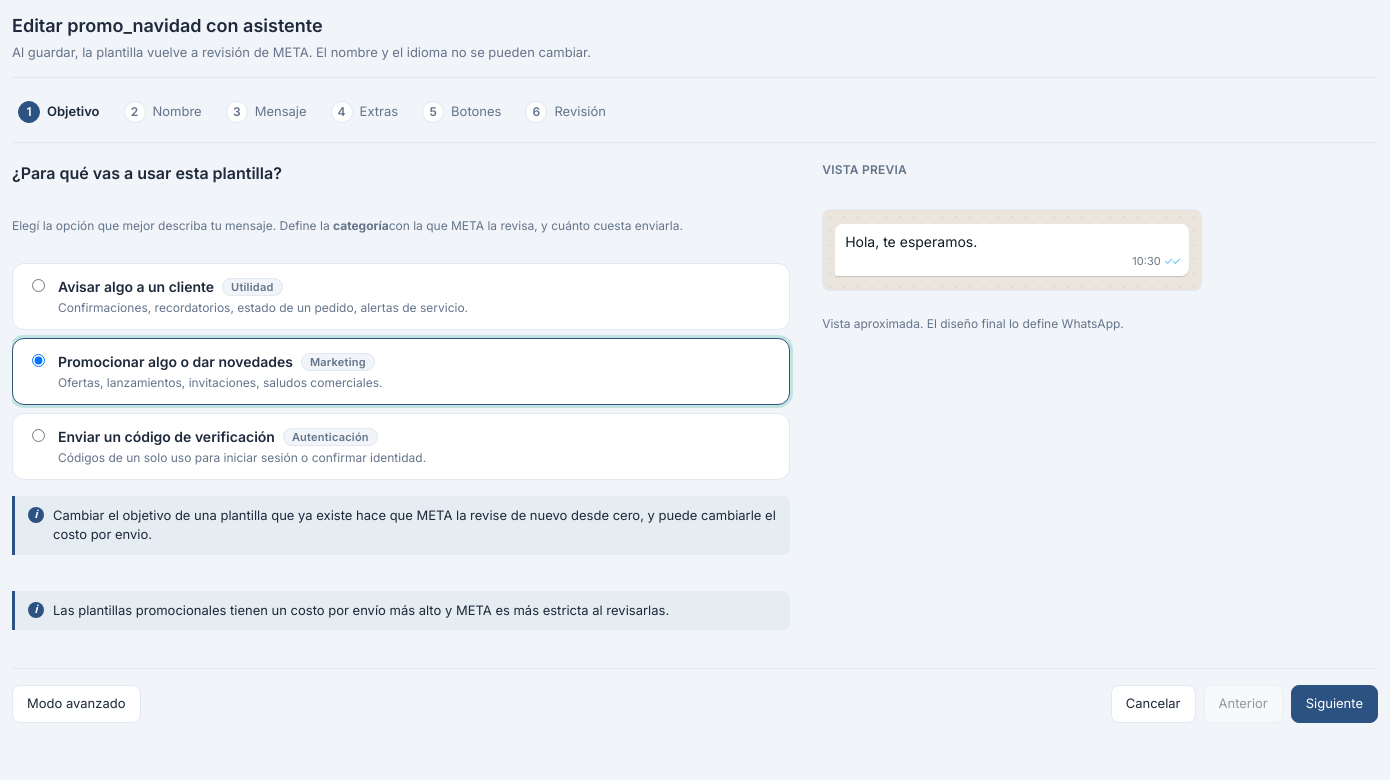
Scenario: TemplateEditor › el asistente parte del contenido que ya tiene la plantilla
This screenshot has width=1390, height=780.
Step 1. Click the button "Siguiente" → (1334, 704), box [1291, 685, 1378, 722]
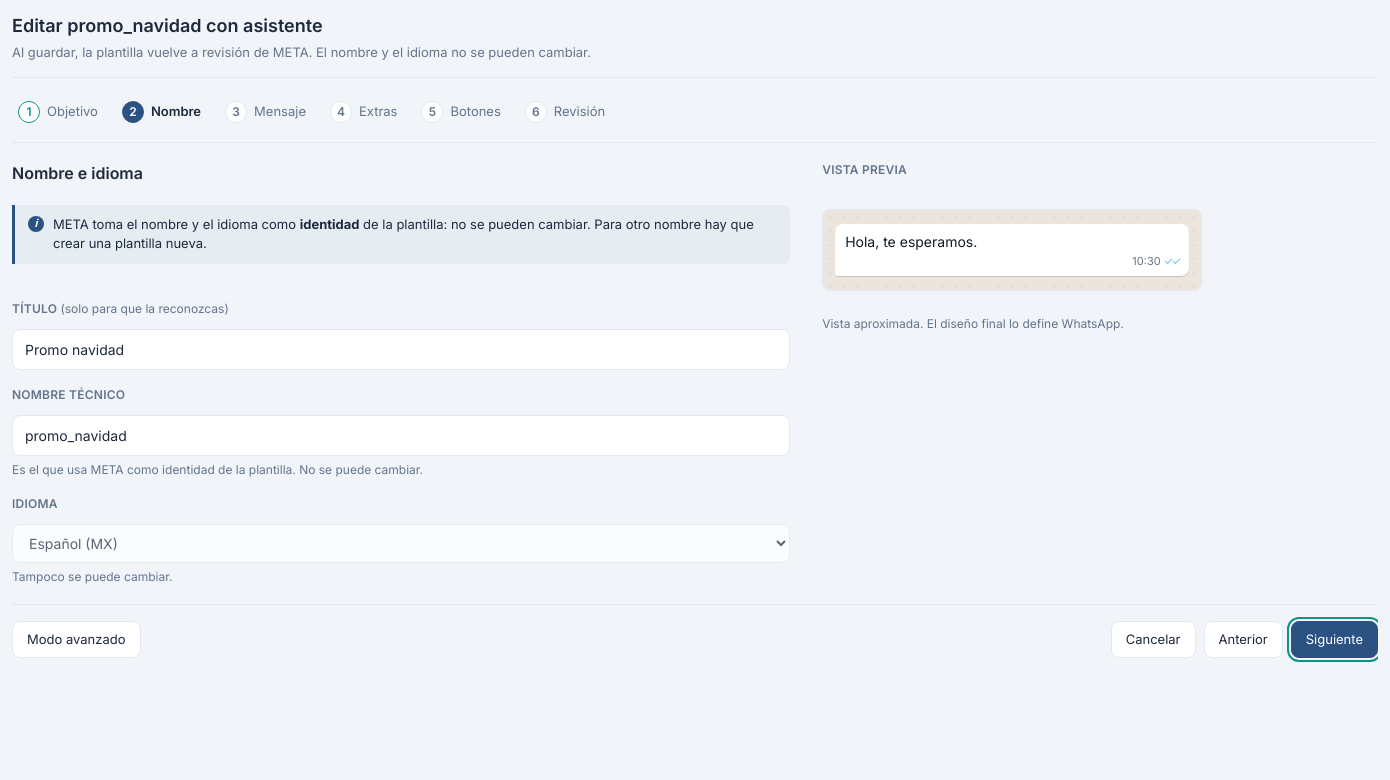
Step 2. Click the button "Siguiente" → (1334, 639), box [1291, 620, 1378, 658]
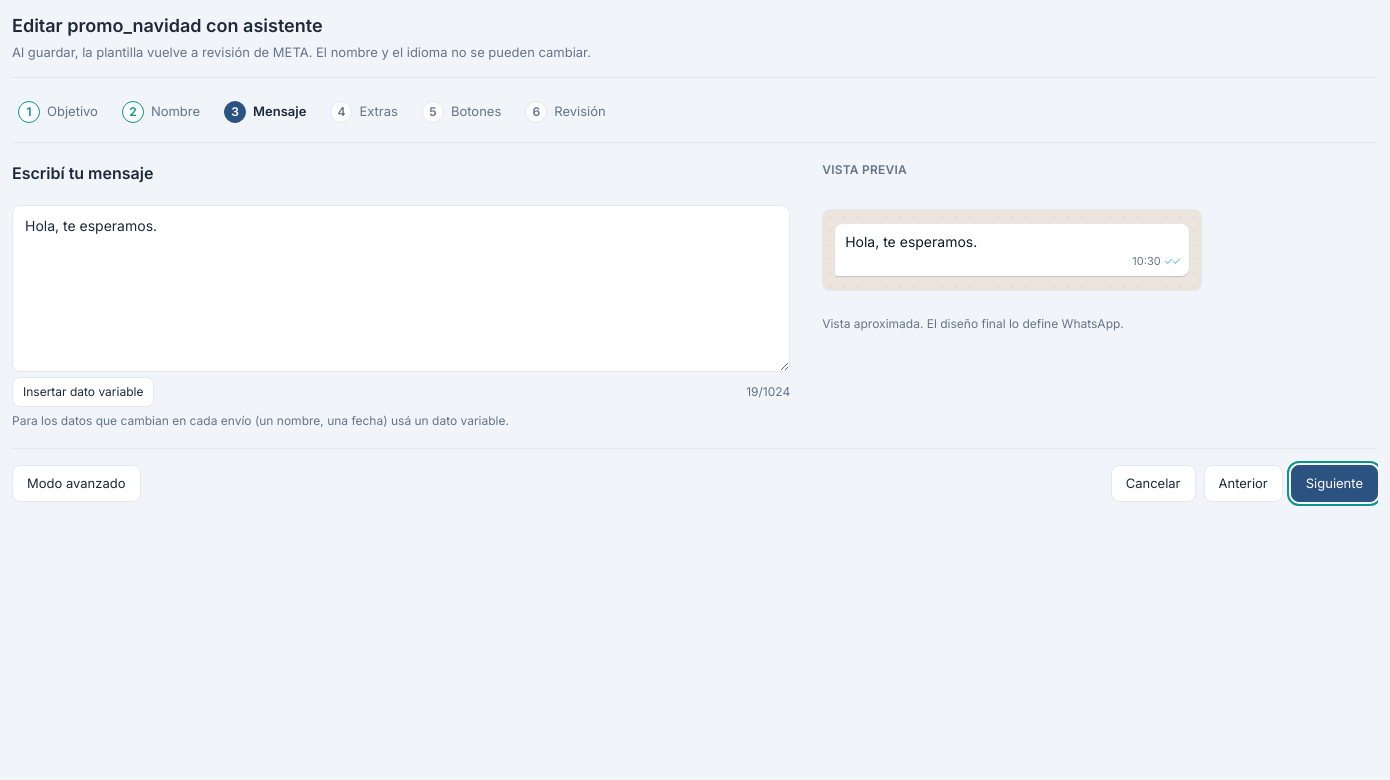
Check: the text box showing "Hola, te esperamos." is shown, box [12, 204, 790, 372]
